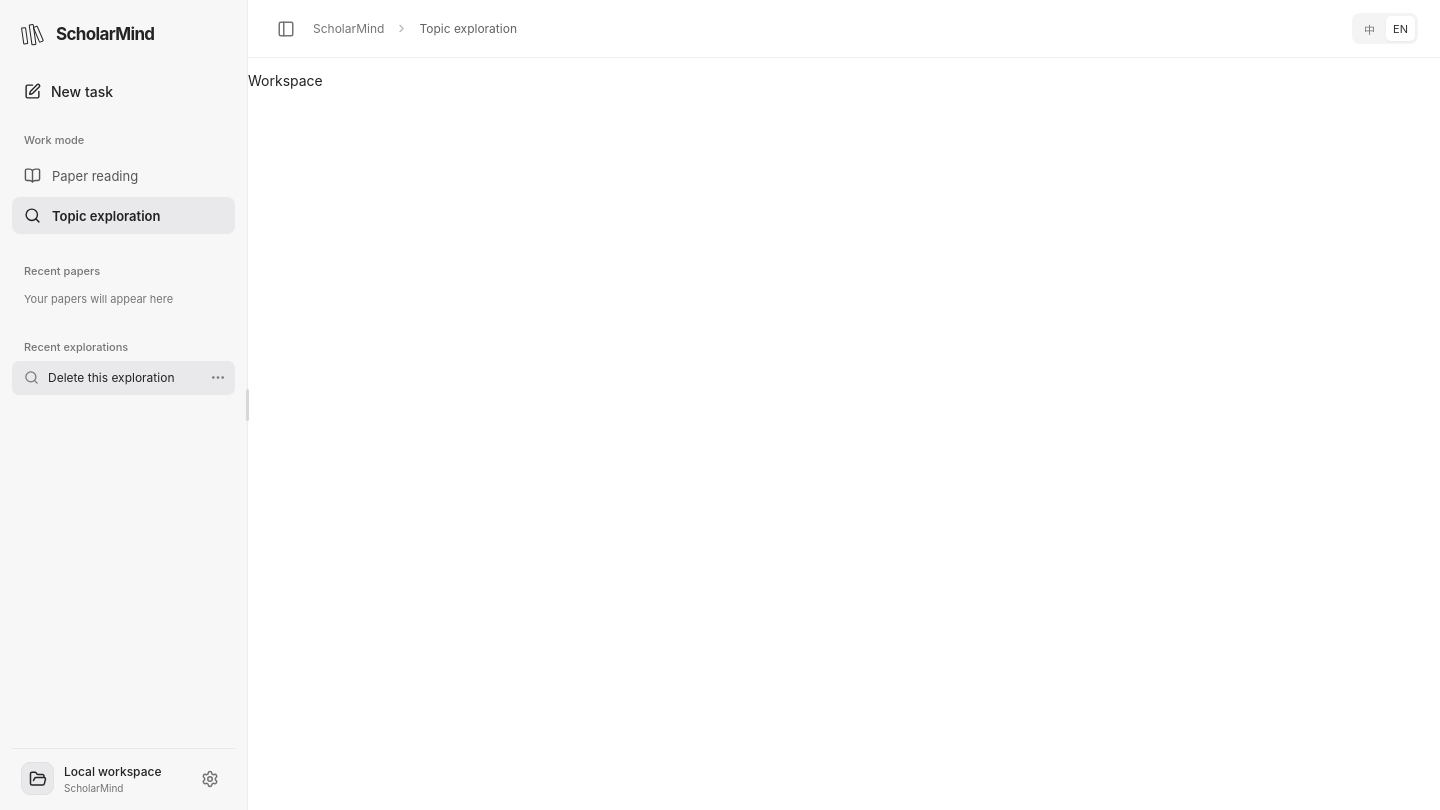
Test: WorkspaceShell › deletes the current exploration and returns to a new task
Right-click the link "Delete this exploration" at (124, 378), box [12, 361, 235, 395]
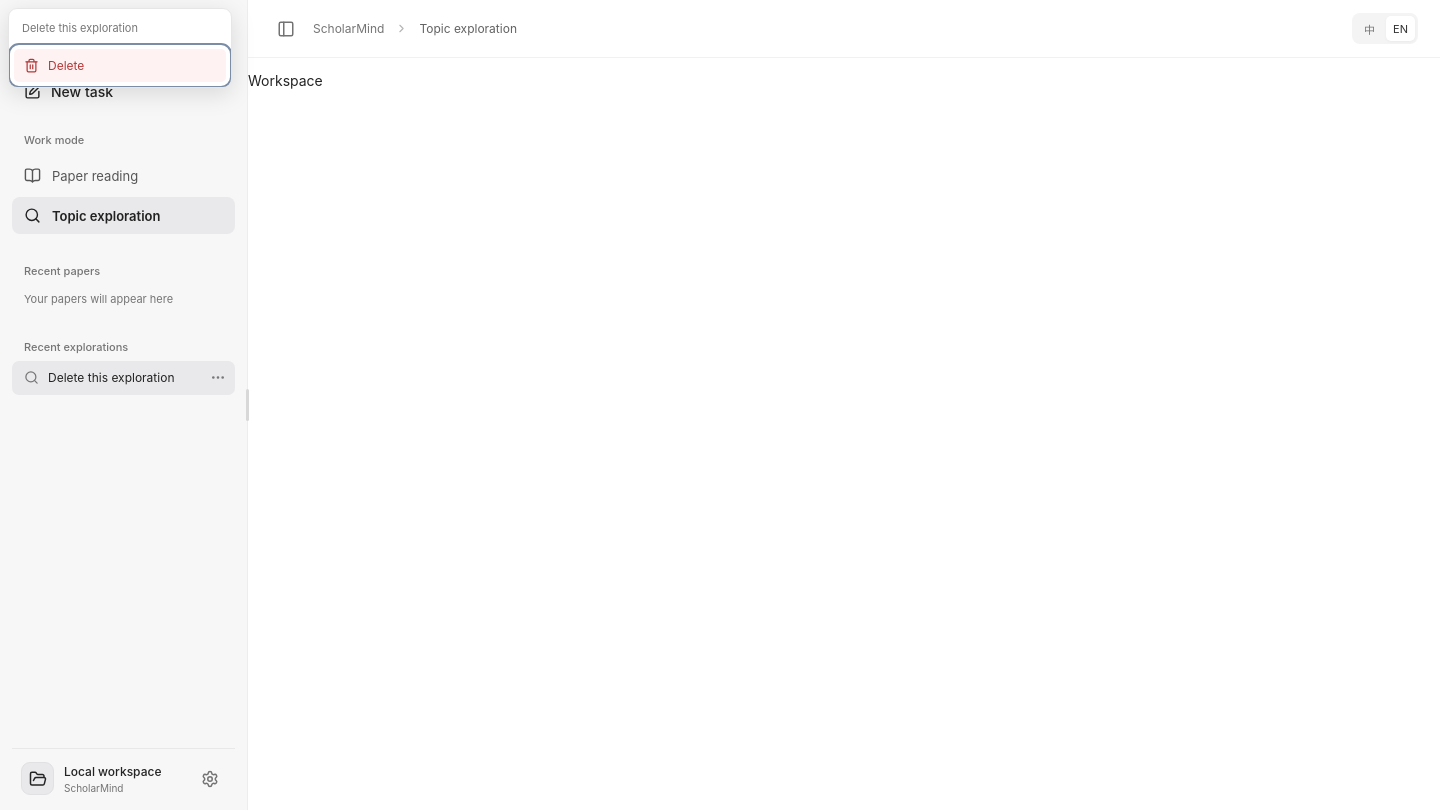
Click the menu item "Delete" at (120, 66), box [14, 49, 226, 82]
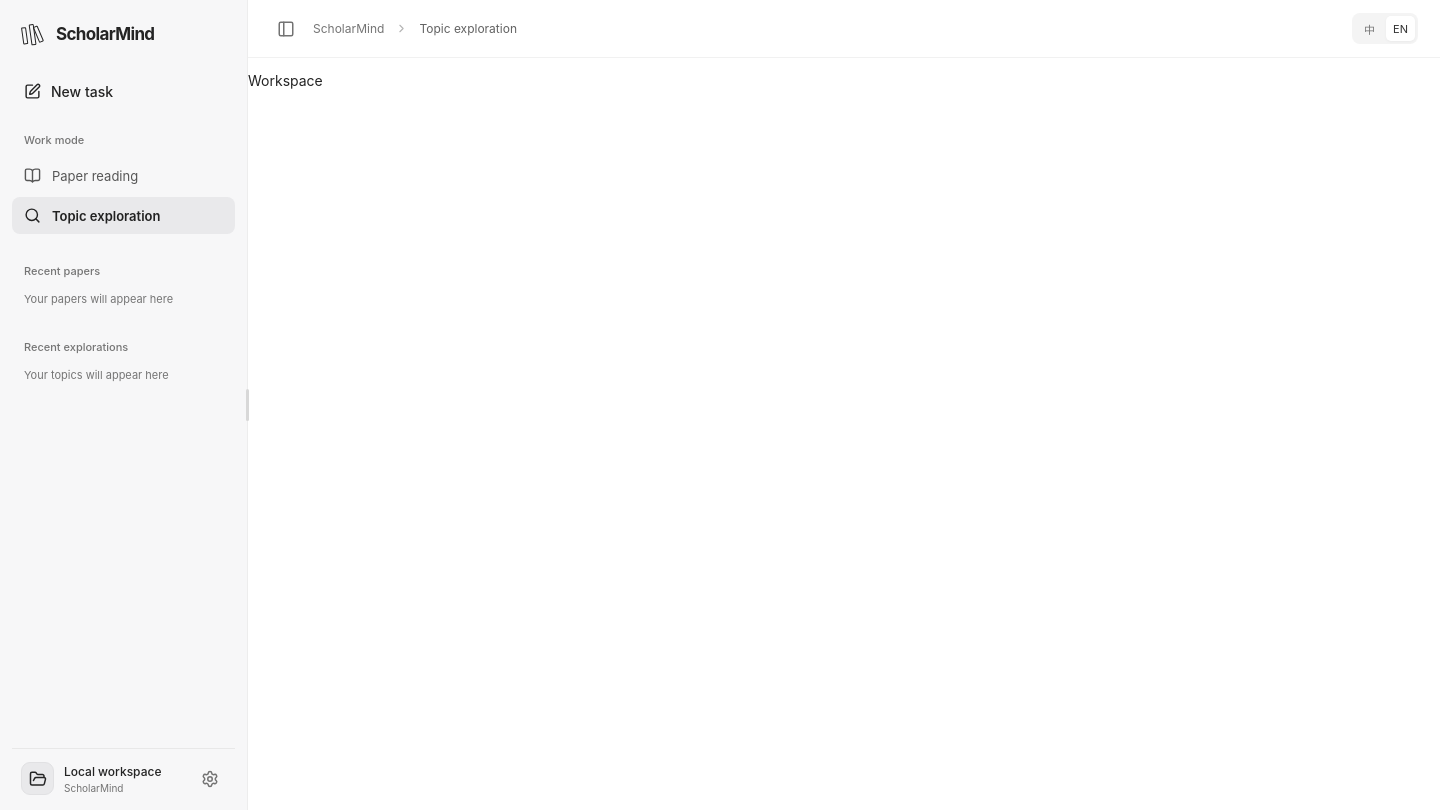
Expected: the link "Delete this exploration" is gone
